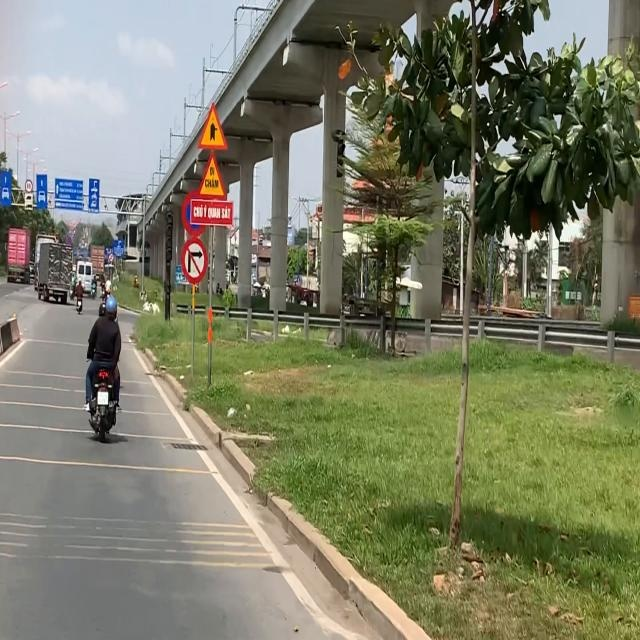bien_nguy_hiem: (197, 101, 229, 151), (196, 151, 228, 201), (181, 237, 206, 283)
